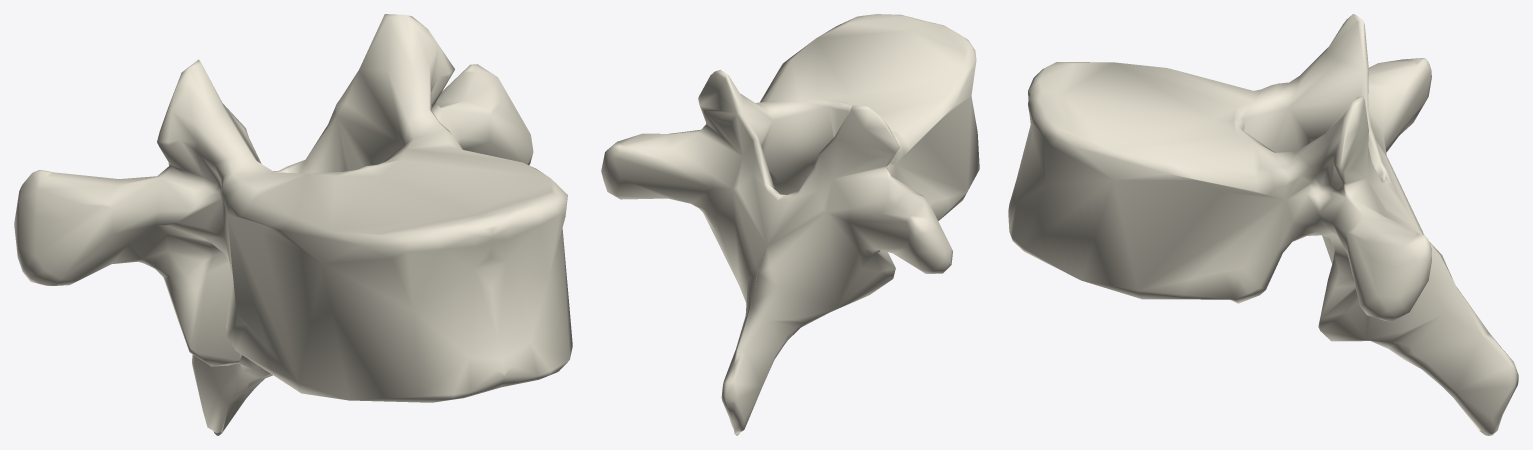
3 views of the same model, side by side, from view 1: azimuth 30°, elevation 25°; view 2: azimuth 150°, elevation 25°; view 3: azimuth 270°, elevation 25° (orthographic). The views are drawn at different scales.
Parts seen in each view (by area): view 1: ZA_d0a286ba14e27b81; view 2: ZA_d0a286ba14e27b81; view 3: ZA_d0a286ba14e27b81.
Part boxes in pixels (x1,y1,x2,y2): ZA_d0a286ba14e27b81: (14,14,572,435); ZA_d0a286ba14e27b81: (601,14,979,435); ZA_d0a286ba14e27b81: (1008,14,1518,435).
Bounding box in the file's own units: 0.0702 × 0.0602 × 0.0737.
